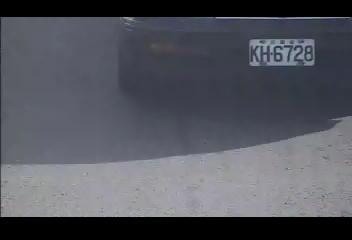plate: (247, 37, 316, 69)
